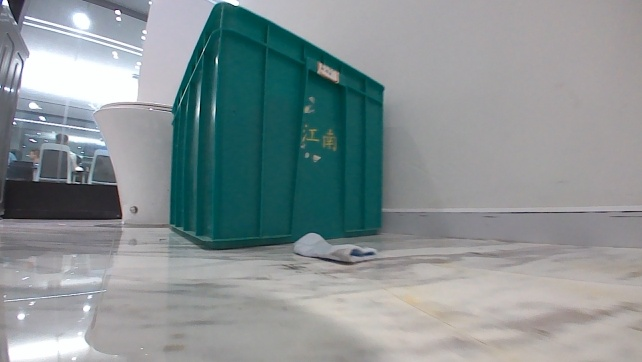socks: (290, 229, 380, 267)
toilet: (87, 96, 178, 230)
